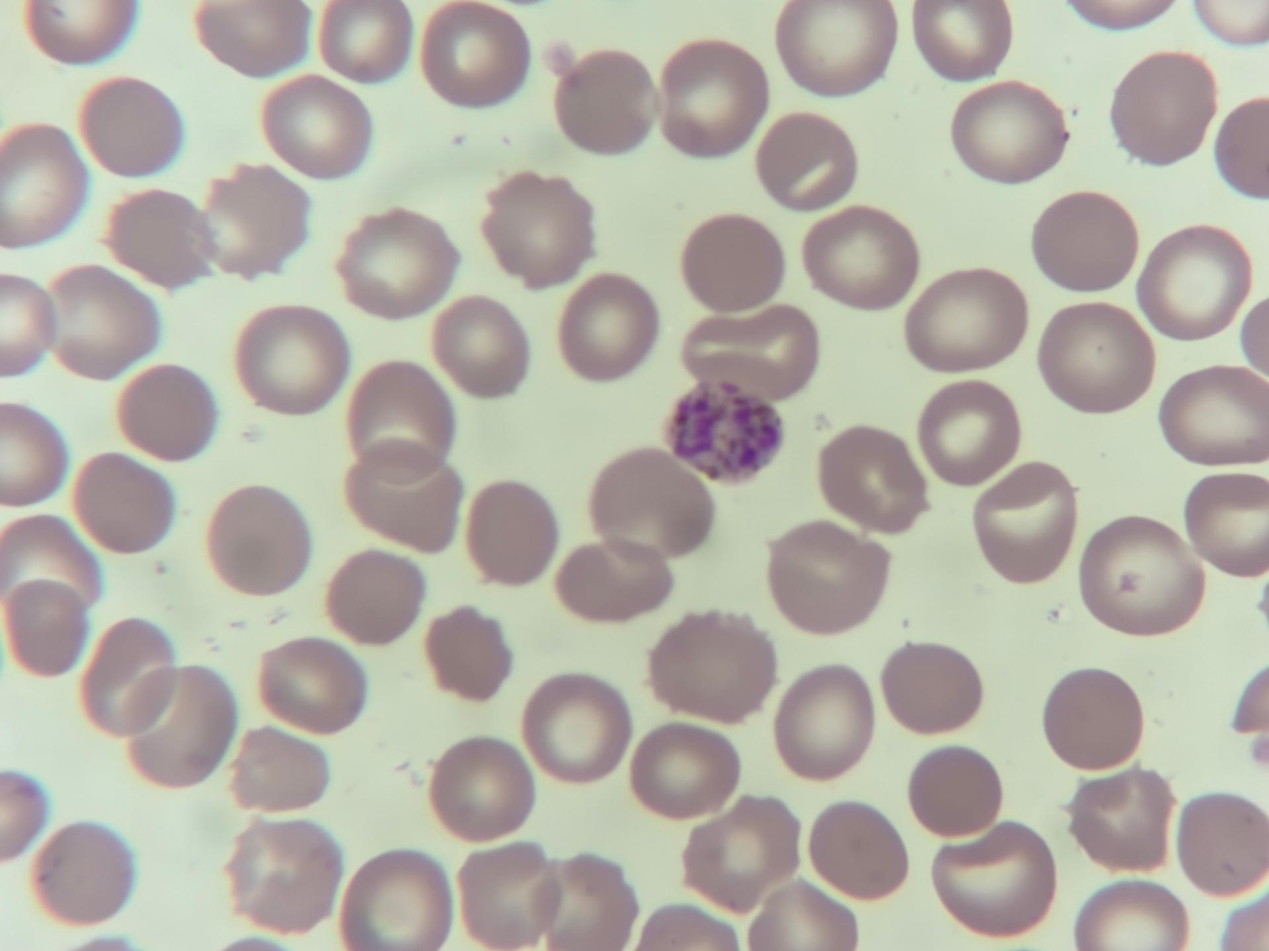Infected: (663, 375, 781, 485)
Uninfected: (1077, 515, 1203, 635), (648, 610, 776, 722), (224, 813, 344, 932), (679, 796, 799, 914), (931, 825, 1055, 936), (589, 447, 711, 558), (766, 521, 888, 632), (124, 667, 235, 785), (680, 307, 814, 403), (46, 265, 158, 377), (480, 173, 593, 284), (1134, 228, 1248, 338), (201, 163, 311, 276), (973, 463, 1077, 582), (1110, 50, 1217, 165), (338, 210, 454, 316), (342, 449, 461, 552), (904, 268, 1024, 370), (78, 617, 179, 738), (659, 41, 767, 152), (206, 484, 314, 595), (1039, 303, 1151, 410), (234, 304, 346, 410), (102, 187, 216, 291), (817, 425, 927, 532), (1063, 767, 1174, 872), (344, 360, 453, 465), (260, 73, 371, 176), (950, 81, 1064, 181), (553, 50, 660, 155), (1155, 366, 1268, 465), (453, 843, 558, 949), (72, 451, 176, 558), (522, 675, 630, 778), (421, 3, 530, 105), (1031, 191, 1138, 294), (428, 740, 535, 843), (802, 207, 913, 306), (30, 825, 135, 928), (0, 123, 85, 250), (340, 850, 450, 948), (777, 1, 894, 93), (558, 274, 660, 379), (917, 379, 1023, 480), (79, 75, 184, 176), (256, 638, 362, 738), (773, 669, 872, 775), (753, 111, 857, 211), (1043, 669, 1143, 773), (680, 214, 785, 313), (629, 722, 736, 818), (114, 362, 217, 461), (432, 293, 531, 395), (465, 480, 560, 585), (808, 801, 907, 901), (880, 640, 983, 736), (326, 549, 426, 646), (553, 539, 668, 623), (195, 0, 313, 80), (227, 724, 330, 815), (907, 747, 1006, 840), (1176, 794, 1267, 894), (1181, 473, 1269, 576), (3, 514, 96, 611), (4, 576, 93, 675), (541, 856, 634, 950), (422, 603, 512, 699), (317, 0, 411, 84), (913, 0, 1011, 80), (1074, 881, 1186, 948), (746, 879, 854, 948), (26, 0, 135, 62), (2, 404, 68, 502), (1, 276, 58, 374)
